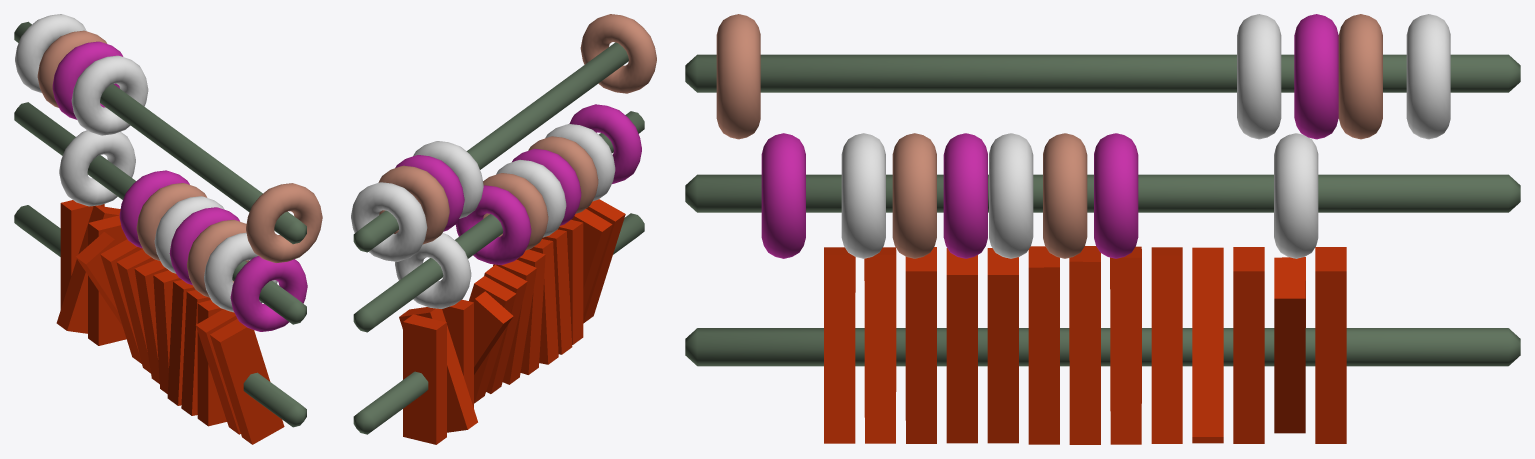
File: Toys_HP.fbx
The picture shows the model from 3 angles, left to right: view 1: azimuth 30°, elevation 25°; view 2: azimuth 150°, elevation 25°; view 3: azimuth 270°, elevation 25°; orthographic projection. The views are drawn at different scales.
Visible parts, largest first — view 1: toys_HP; view 2: toys_HP; view 3: toys_HP.
Part boxes in pixels (<box>): toys_HP: <box>14,14,322,444</box>; toys_HP: <box>351,14,656,444</box>; toys_HP: <box>685,14,1520,444</box>.
Size of the model in its own units: 14.77 by 46 by 83.31.
